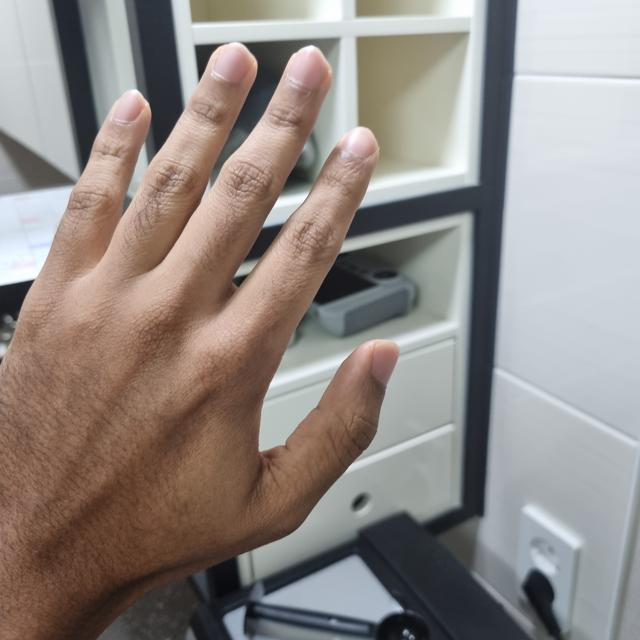Paper: (0, 43, 398, 586)
